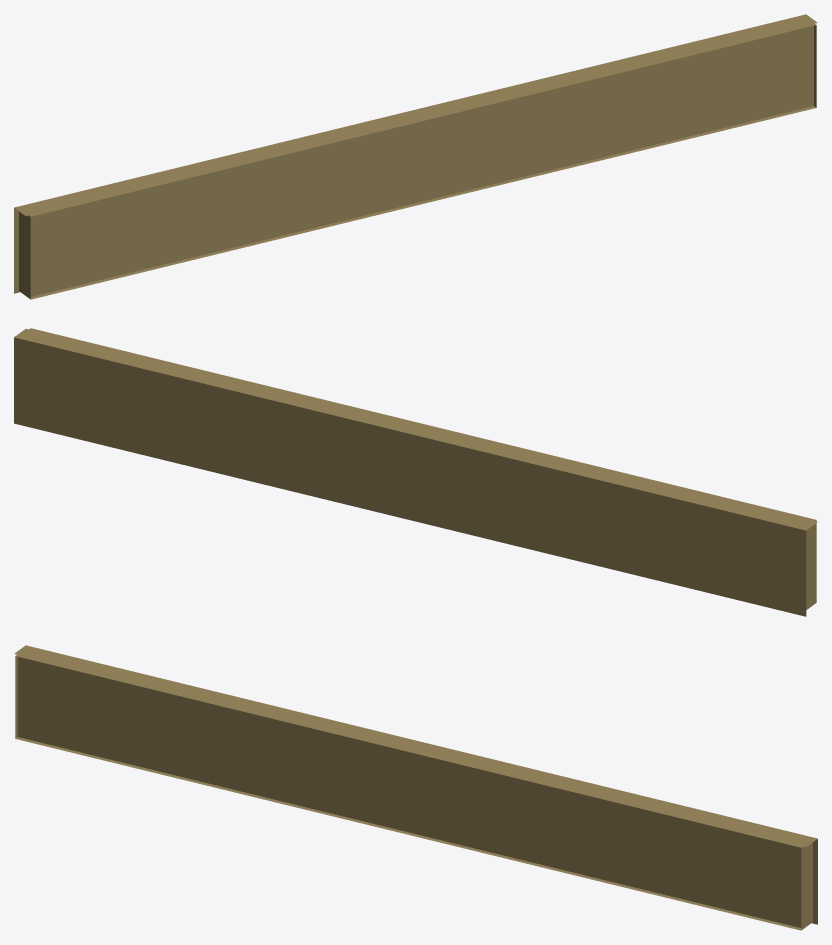
File: original-19-back.obj
3 renders of one model, top to bottom at view 1: azimuth 30°, elevation 25°; view 2: azimuth 150°, elevation 25°; view 3: azimuth 330°, elevation 25°, orthographic.
Visible parts, largest first — view 1: #ID114.001; view 2: #ID114.001; view 3: #ID114.001.
Boxes of the visible parts, bbox=[...] form: #ID114.001: bbox=[14, 14, 817, 299]; #ID114.001: bbox=[14, 328, 817, 616]; #ID114.001: bbox=[14, 645, 817, 930].
Size of the model in its own units: 0.8774 by 0.0912 by 0.0261.
